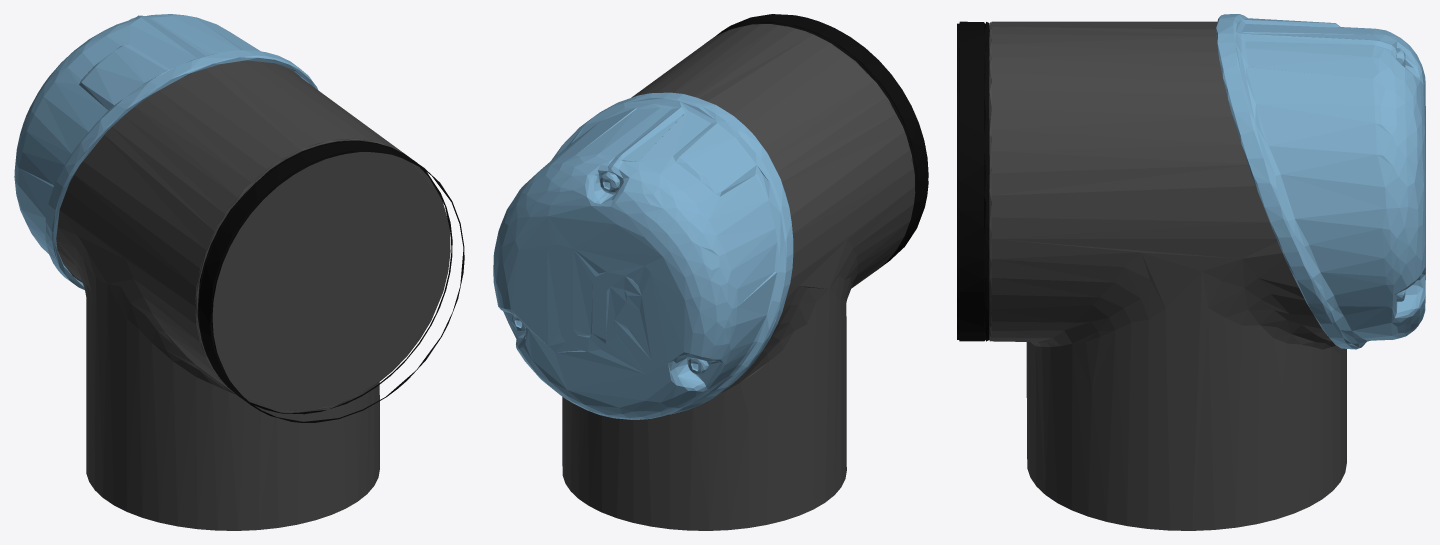
The model's file is wrist1.glb.
3 views of the same model, side by side, from view 1: azimuth 30°, elevation 25°; view 2: azimuth 150°, elevation 25°; view 3: azimuth 270°, elevation 25° (orthographic). The views are drawn at different scales.
Parts seen in each view (by area): view 1: eSeries_UR5e_043, object 2, eSeries_UR5e_027; view 2: eSeries_UR5e_043, object 2, eSeries_UR5e_027; view 3: eSeries_UR5e_043, object 2, eSeries_UR5e_027.
Part boxes in pixels (x1,y1,x2,y2): eSeries_UR5e_043: (56, 60, 450, 530); object 2: (14, 14, 318, 289); eSeries_UR5e_027: (197, 140, 464, 422); eSeries_UR5e_043: (562, 24, 915, 530); object 2: (493, 92, 793, 419); eSeries_UR5e_027: (706, 14, 928, 270); eSeries_UR5e_043: (989, 21, 1346, 530); object 2: (1216, 14, 1425, 349); eSeries_UR5e_027: (957, 21, 989, 341).
Size of the model in its own units: 0.0785 by 0.1121 by 0.1099.
